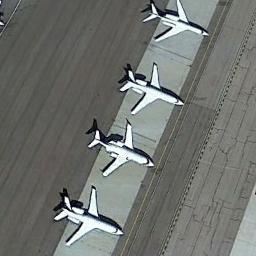Airplane: (86, 118, 157, 188), (50, 184, 124, 250), (118, 61, 188, 118), (142, 2, 212, 50)
